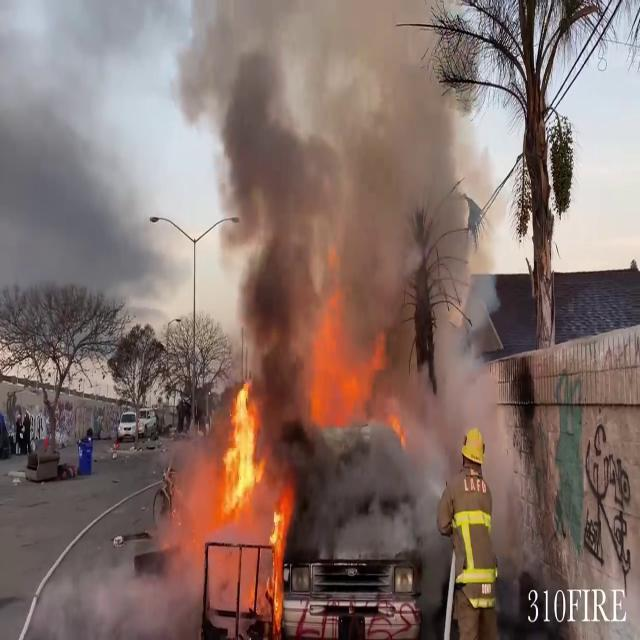Fire: (185, 380, 295, 630)
Smoke: (192, 0, 464, 469)
